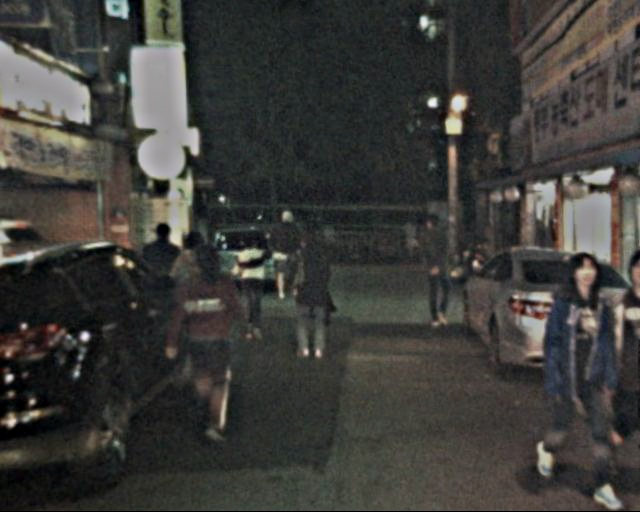person: (534, 242, 613, 494), (169, 237, 249, 446), (281, 231, 334, 369), (168, 230, 221, 356), (140, 224, 188, 339), (228, 231, 276, 343), (413, 215, 459, 326), (265, 206, 307, 308)
